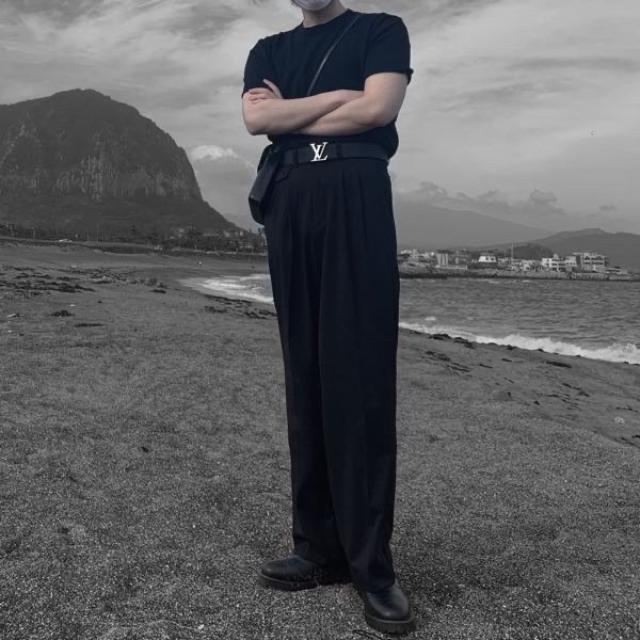shortsleeve: (242, 5, 412, 157)
slacks: (259, 154, 397, 596)
